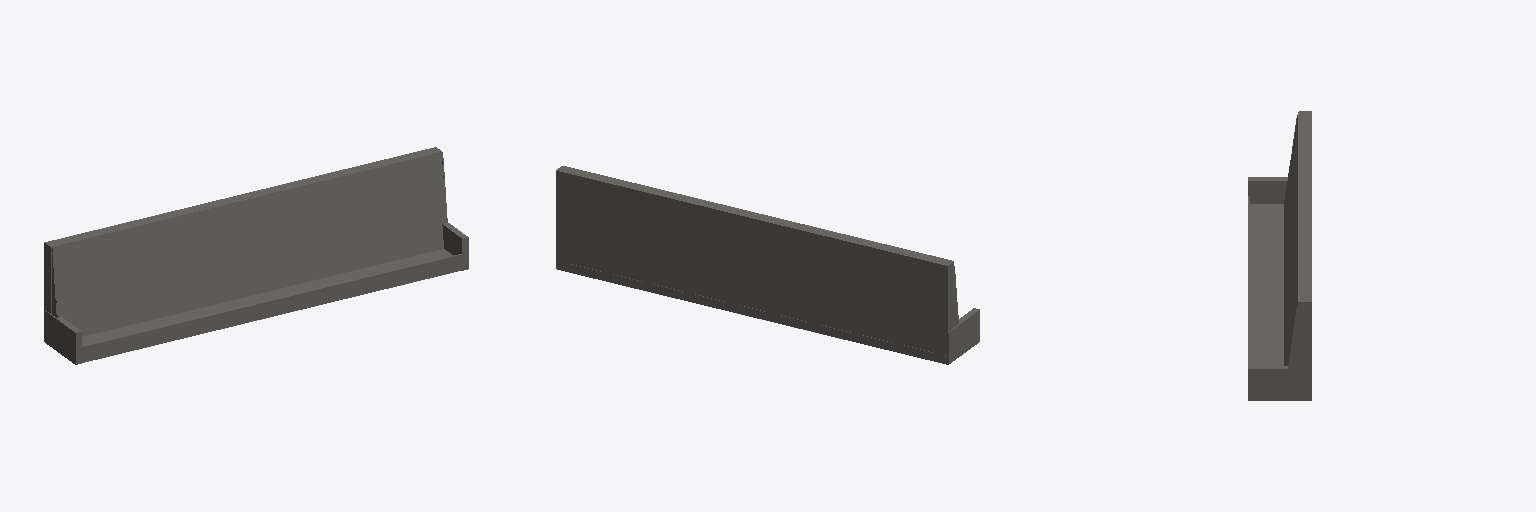
The model's file is urinal.obj.
3 views of the same model, side by side, from view 1: azimuth 30°, elevation 25°; view 2: azimuth 150°, elevation 25°; view 3: azimuth 270°, elevation 25° (orthographic).
Visible parts, largest first — view 1: Box003, Box006, Box002, Box001, Box005, Box004; view 2: Box001, Box002, Box005; view 3: Box002, Box001, Box003, Box004, Box005.
Part boxes in pixels (left/top/right/bottom): Box003: left=52, top=153, right=447, bottom=336; Box006: left=77, top=254, right=461, bottom=363; Box002: left=82, top=249, right=452, bottom=359; Box001: left=44, top=147, right=442, bottom=313; Box005: left=44, top=310, right=81, bottom=364; Box004: left=442, top=223, right=468, bottom=270; Box001: left=556, top=166, right=953, bottom=355; Box002: left=556, top=261, right=947, bottom=364; Box005: left=948, top=308, right=979, bottom=364; Box002: left=1250, top=204, right=1311, bottom=400; Box001: left=1299, top=111, right=1311, bottom=391; Box003: left=1284, top=112, right=1298, bottom=365; Box004: left=1248, top=366, right=1310, bottom=400; Box005: left=1248, top=177, right=1287, bottom=203.
Size of the model in its own units: 178 by 42.89 by 25.44.